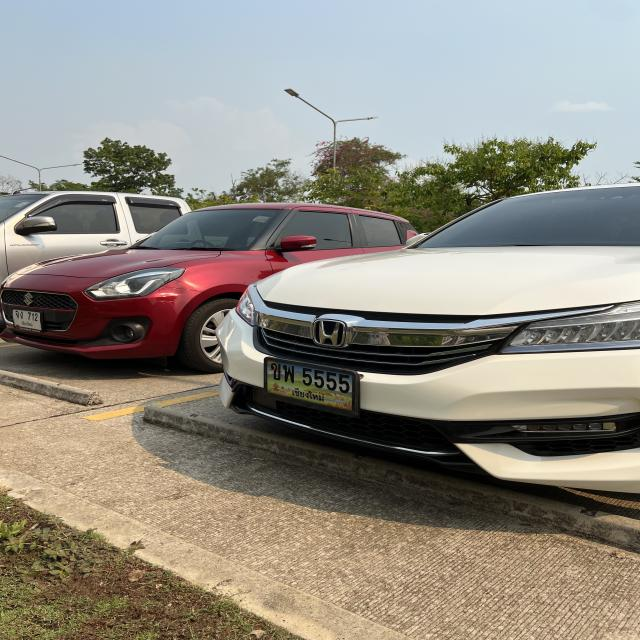license_plate: (263, 355, 358, 416)
